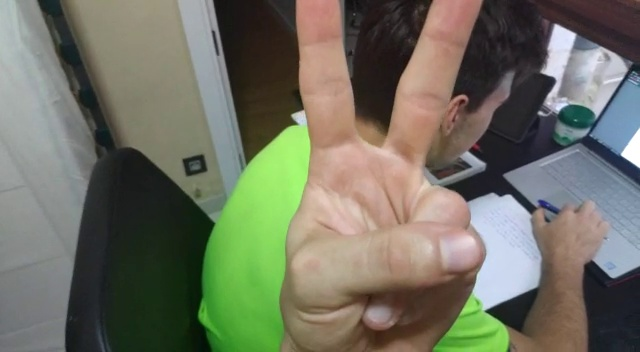Peace: (265, 1, 486, 352)
